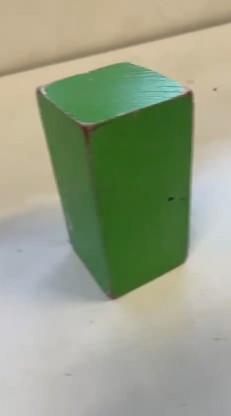green: (62, 81, 190, 271)
